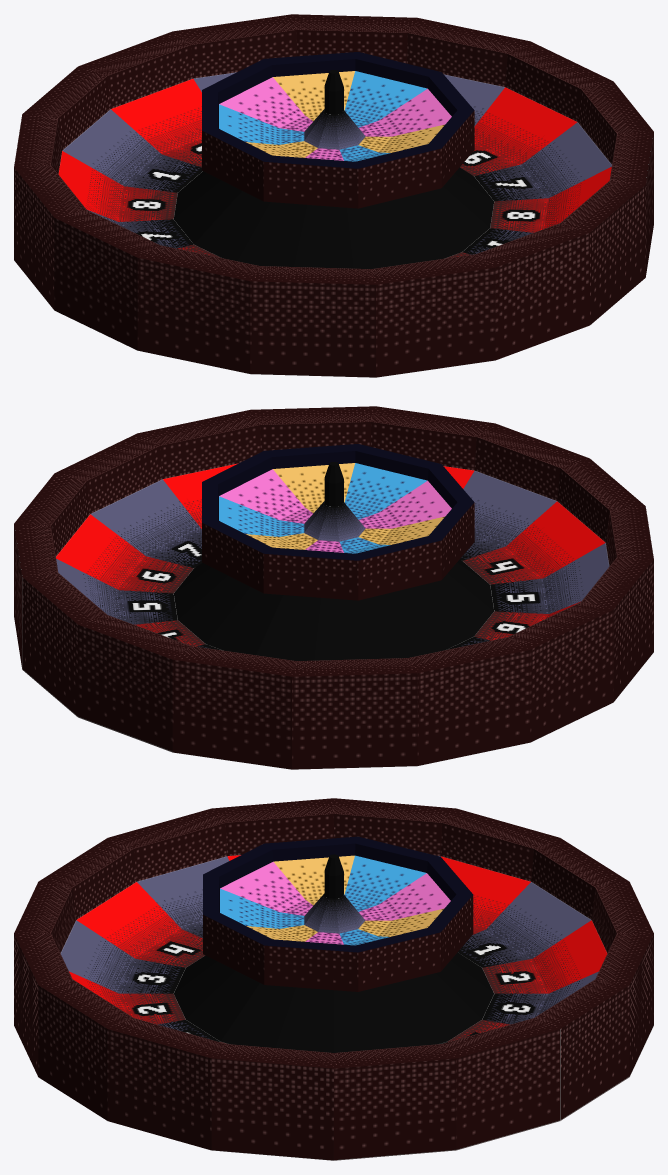
File: roulette.fbx
The picture shows the model from 3 angles, top to bottom: view 1: azimuth 30°, elevation 25°; view 2: azimuth 150°, elevation 25°; view 3: azimuth 270°, elevation 25°; orthographic projection.
Visible parts, largest first — view 1: Cylinder, Cylinder.001; view 2: Cylinder, Cylinder.001; view 3: Cylinder, Cylinder.001.
Part boxes in pixels (bbox=[...]): Cylinder: bbox=[14, 14, 653, 377]; Cylinder.001: bbox=[202, 52, 474, 208]; Cylinder: bbox=[14, 406, 653, 769]; Cylinder.001: bbox=[202, 444, 474, 600]; Cylinder: bbox=[14, 798, 653, 1160]; Cylinder.001: bbox=[203, 836, 473, 991].
Size of the model in its own units: 30.04 by 8.76 by 30.04.
1 material, 1 textured.
